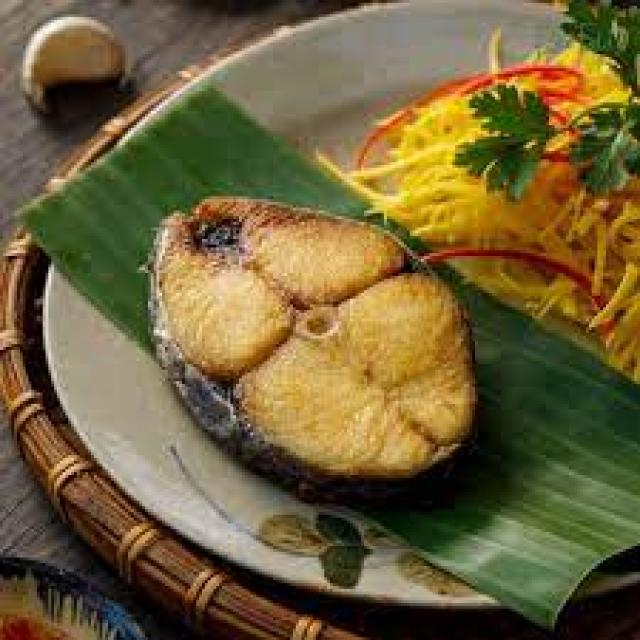ca chien: (151, 196, 475, 492)
